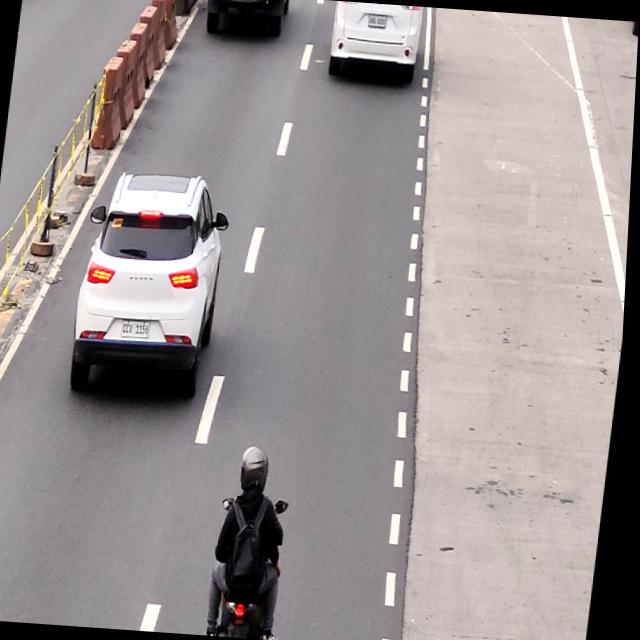Car: (72, 166, 237, 398), (328, 1, 425, 84), (202, 0, 289, 37)
License-Plate: (124, 320, 153, 340), (368, 14, 388, 30)
Motorcycle: (205, 442, 305, 640)
